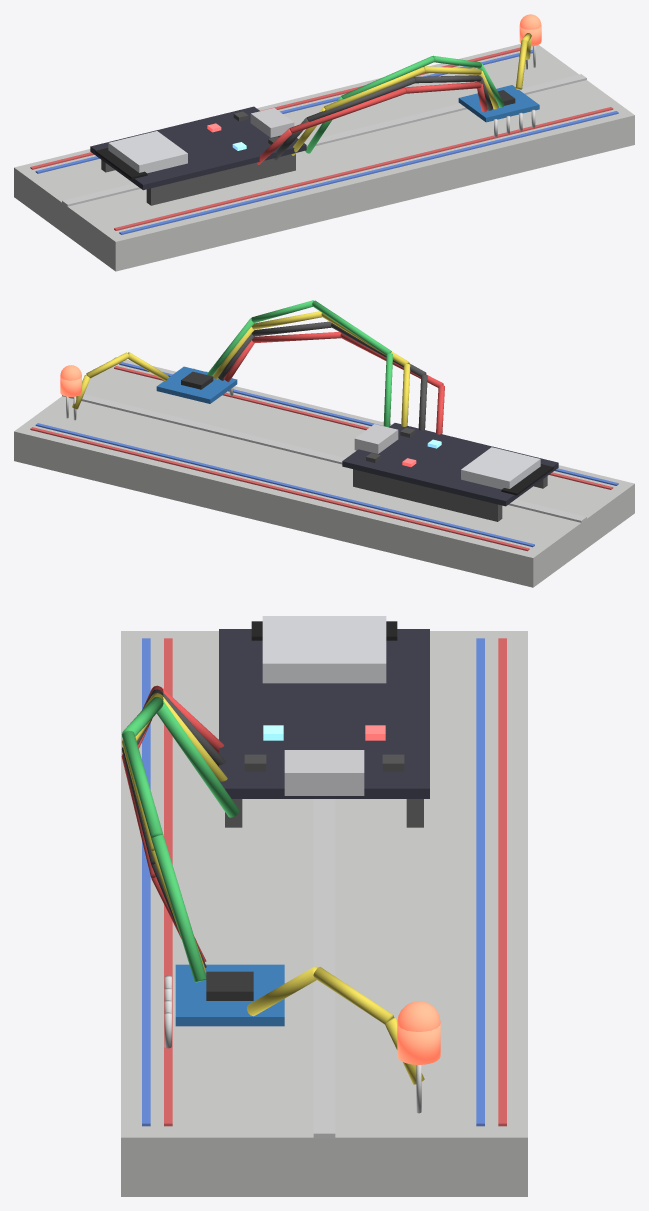
File: circuit.glb
The picture shows the model from 3 angles, top to bottom: view 1: azimuth 30°, elevation 25°; view 2: azimuth 150°, elevation 25°; view 3: azimuth 270°, elevation 25°; orthographic projection. The views are drawn at different scales.
Visible parts, largest first — view 1: world; view 2: world; view 3: world.
Boxes of the visible parts, box(x1,y1,x2,y2) form: world: box(14, 14, 634, 271); world: box(14, 300, 634, 587); world: box(121, 616, 527, 1196).
Size of the model in its own units: 0.33 by 0.0827 by 0.112.
